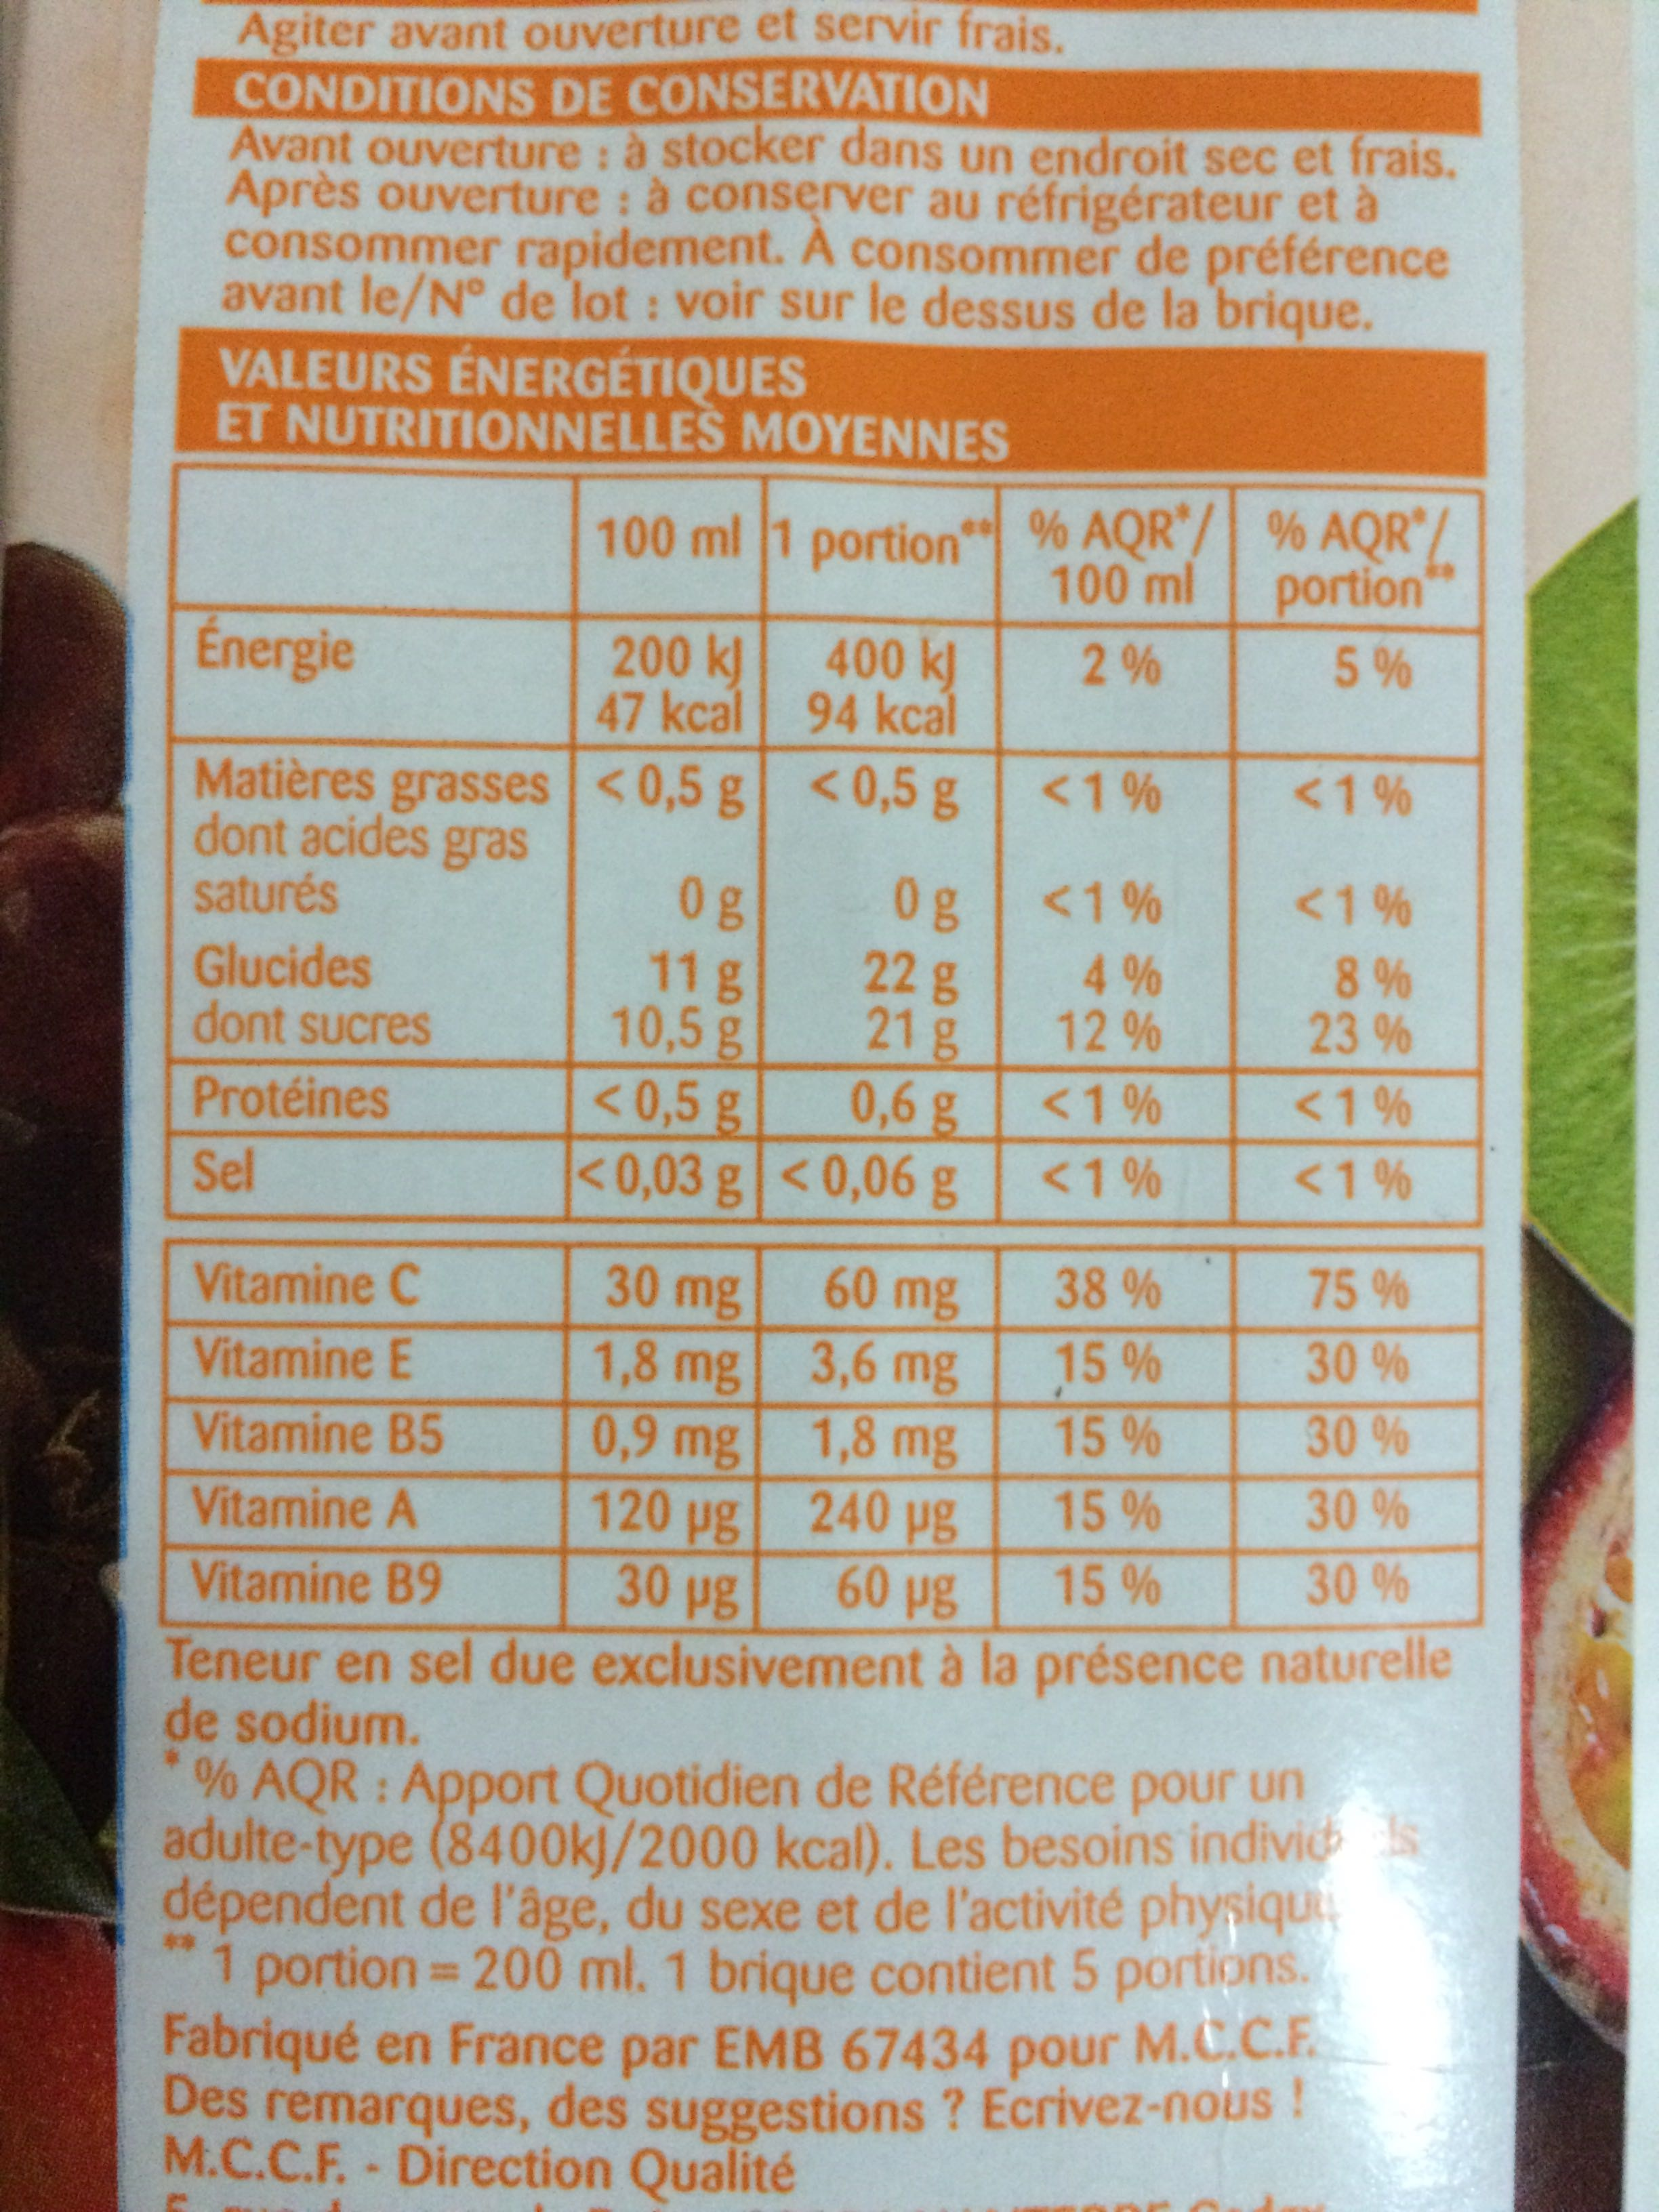column: (190, 488, 559, 1609), (774, 488, 986, 1616), (1262, 495, 1455, 1606), (1032, 495, 1211, 1622), (587, 477, 742, 1622)
table: (157, 315, 1502, 1646)
